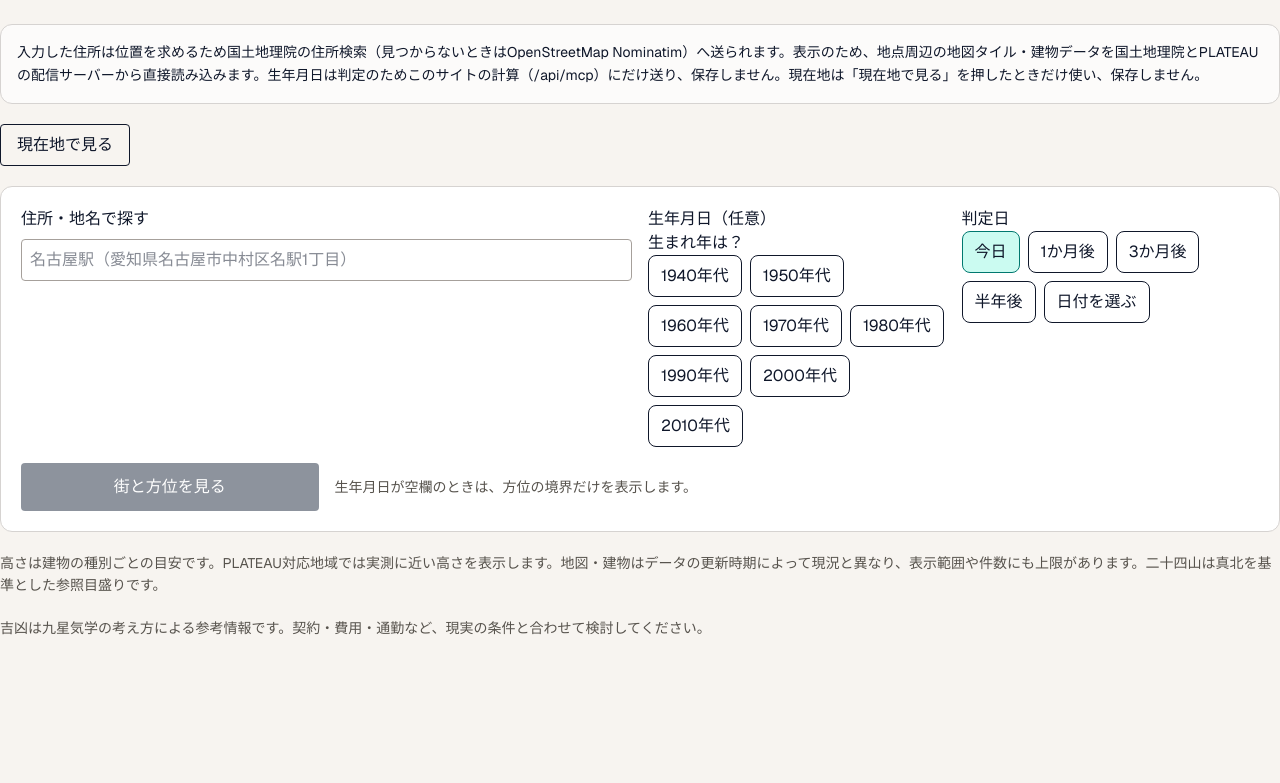
Test: 街の表示を入力せずに始める › 未登録の生年月日を年代・年・月・日の順に選び、保存しない
Check: the text "生まれた月は？" is not shown
Click the button "1980年代" at (897, 326), box x1=850 y1=304 x2=944 y2=346
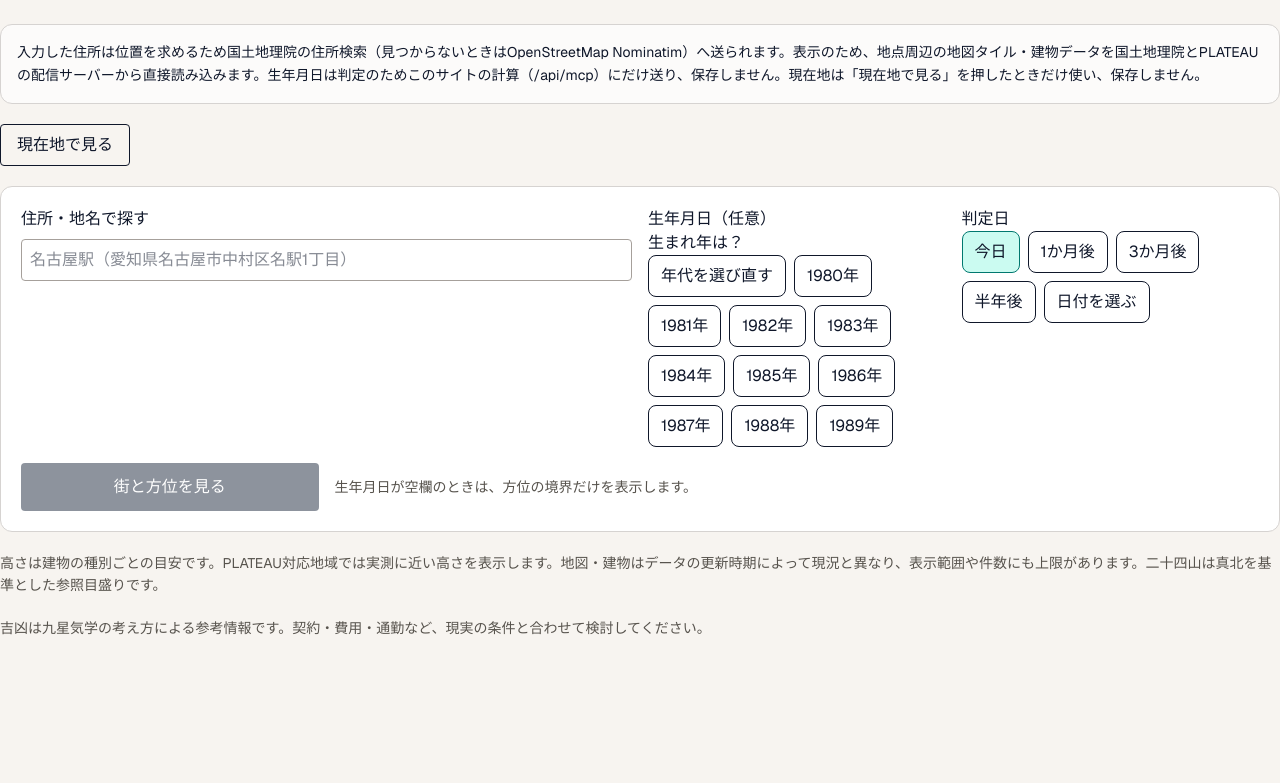
Click the button "1988年" at (770, 426), box x1=731 y1=404 x2=808 y2=446
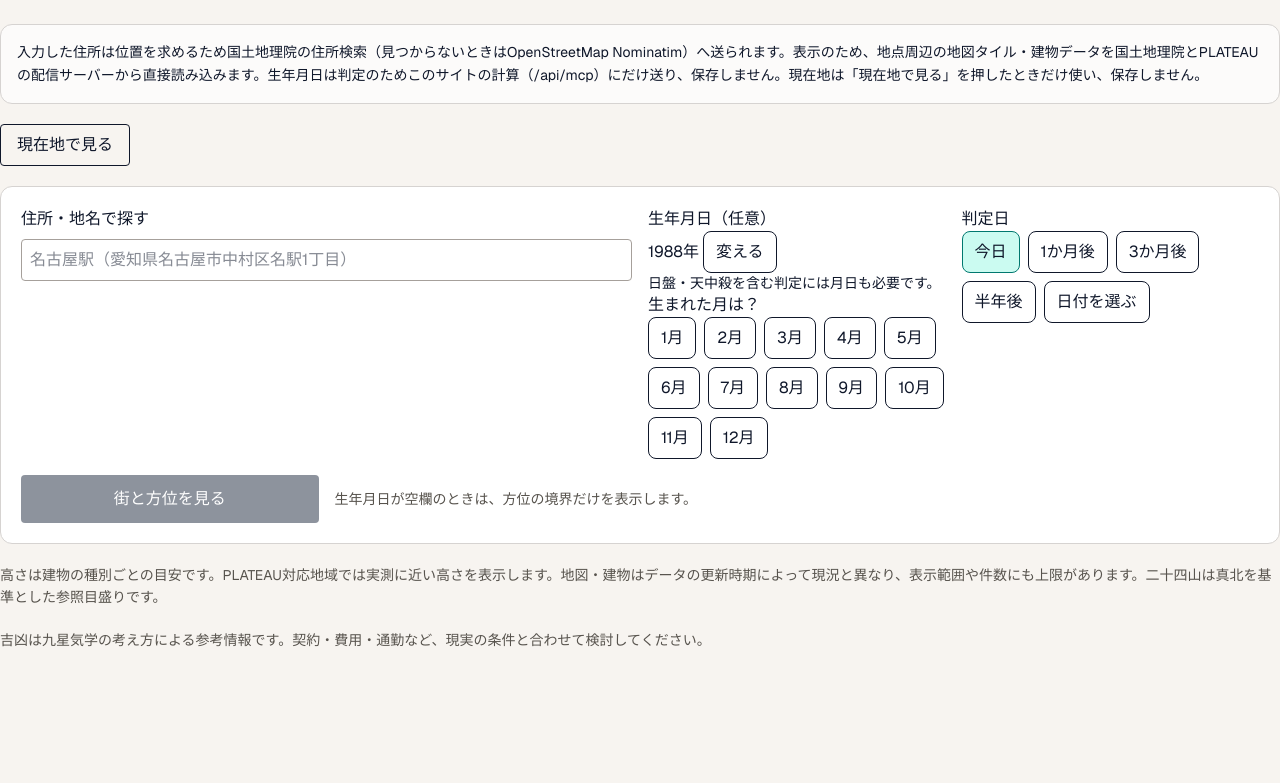
Click the button "5月" at (910, 338), box x1=884 y1=316 x2=936 y2=358
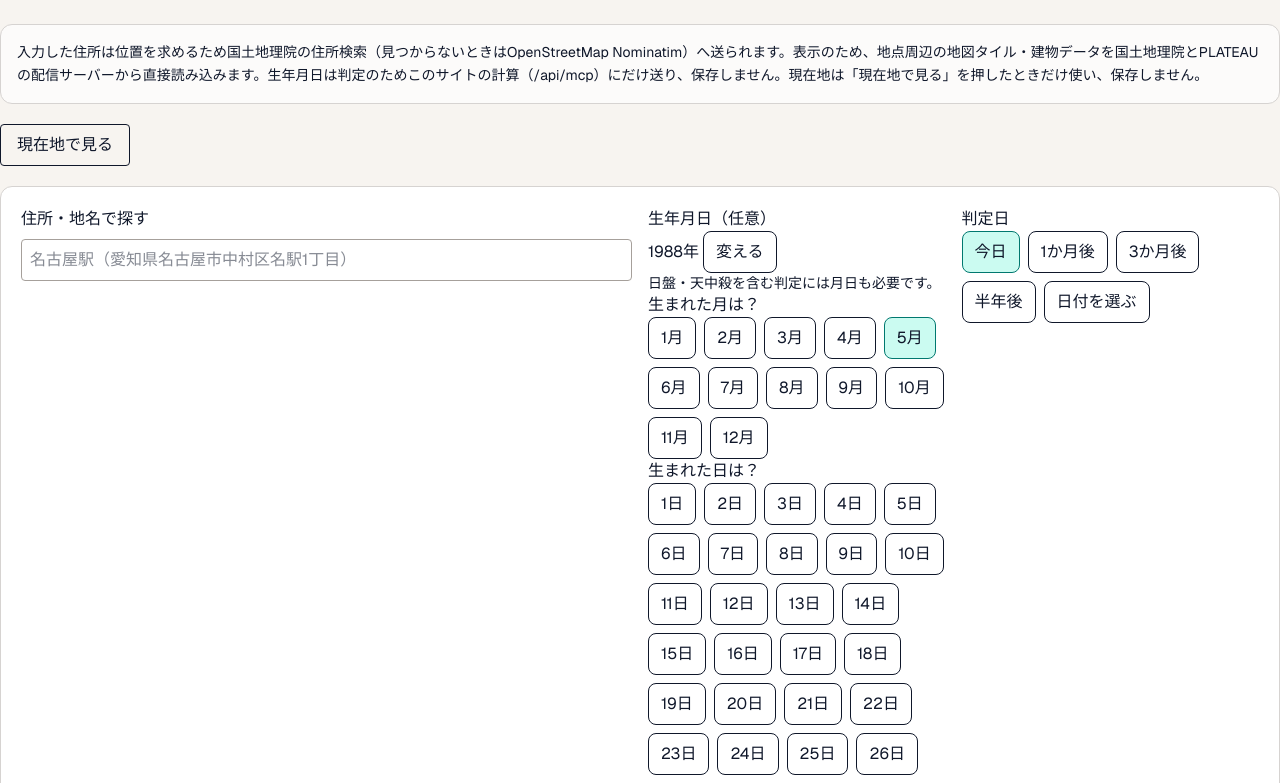
Click the button "10日" at (914, 554), box x1=885 y1=532 x2=944 y2=574
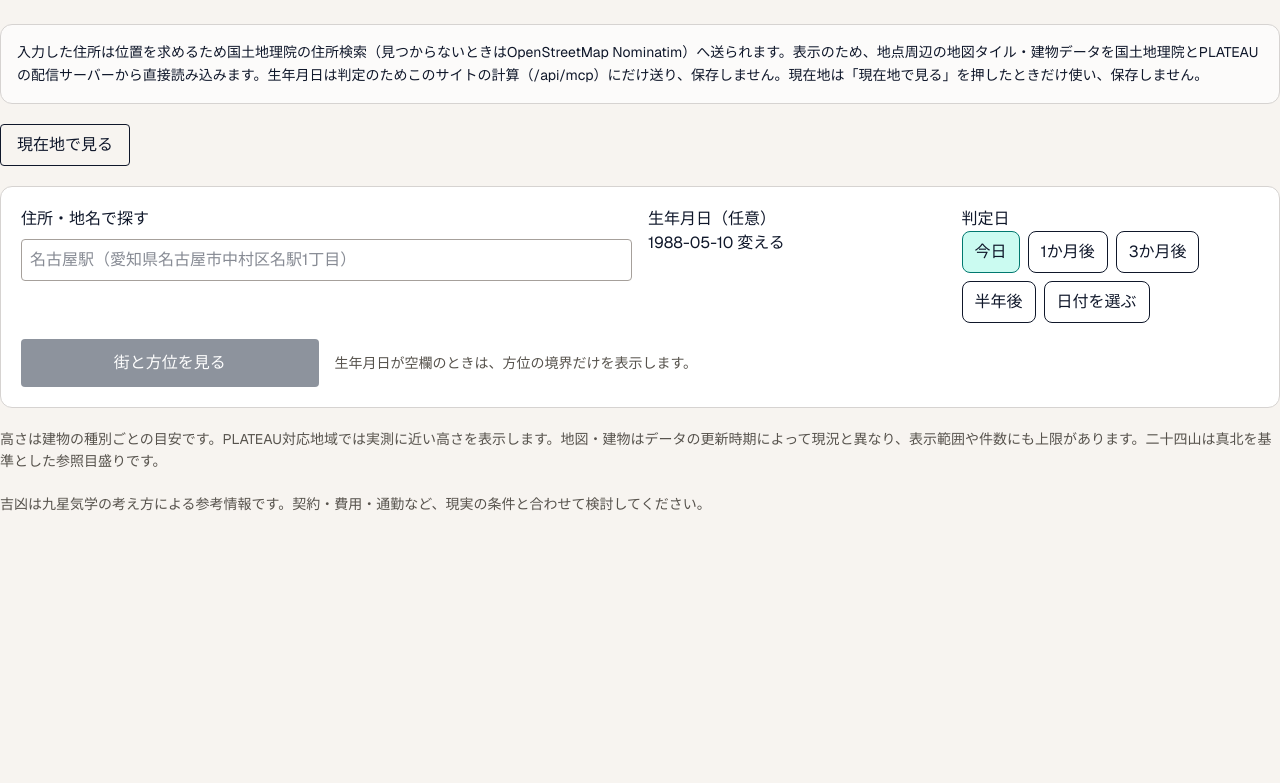
Check: the text "1988-05-10" is shown, box x1=648 y1=232 x2=733 y2=252
